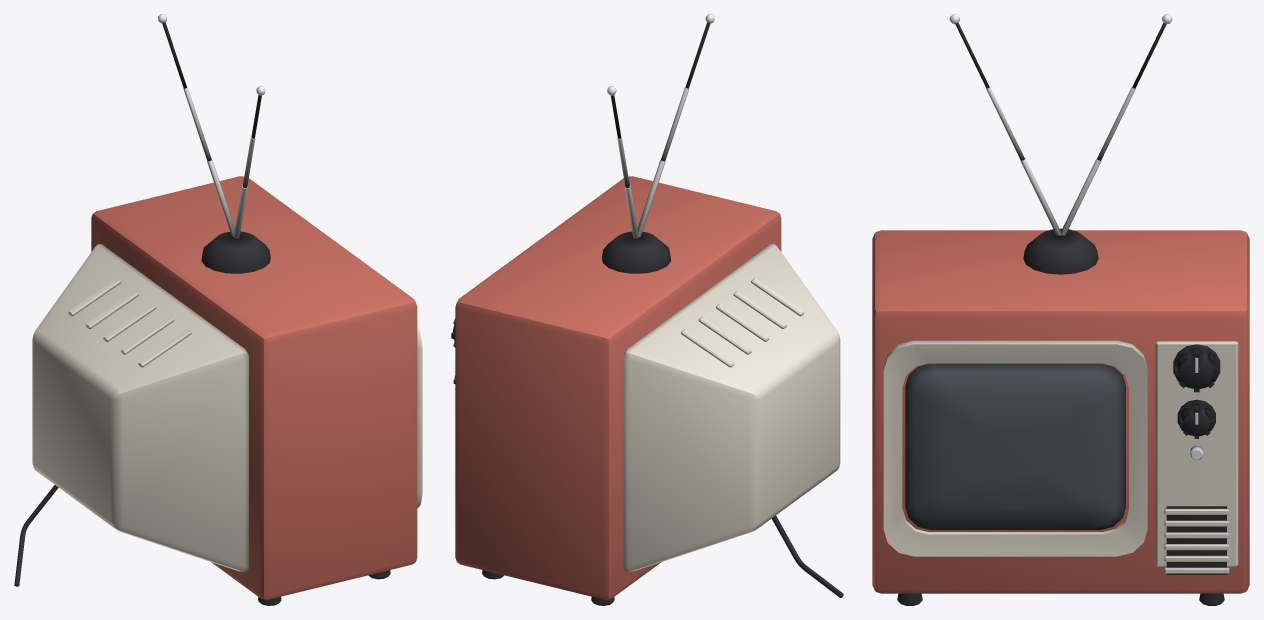
The model's file is junk_tv.glb.
3 renders of one model, left to right at view 1: azimuth 30°, elevation 25°; view 2: azimuth 150°, elevation 25°; view 3: azimuth 270°, elevation 25°, orthographic. The views are drawn at different scales.
Visible parts, largest first — view 1: PART; view 2: PART; view 3: PART.
Boxes of the visible parts, x1,y1,x2,y2 form: PART: [14, 14, 422, 605]; PART: [451, 14, 843, 605]; PART: [872, 14, 1249, 605].
Size of the model in its own units: 0.543 by 0.7834 by 0.5.
